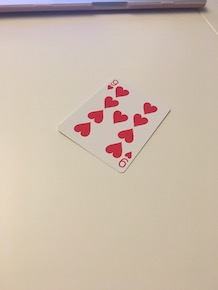NineOfHearts: (56, 76, 174, 178)
